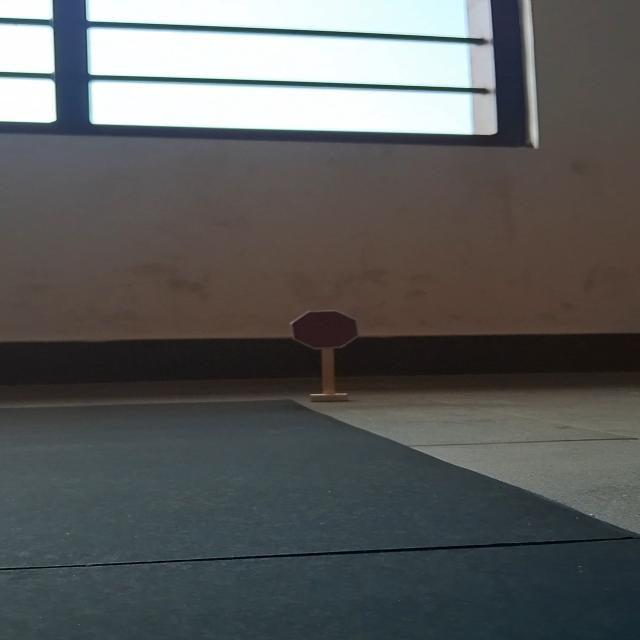Stop: (288, 309, 360, 349)
